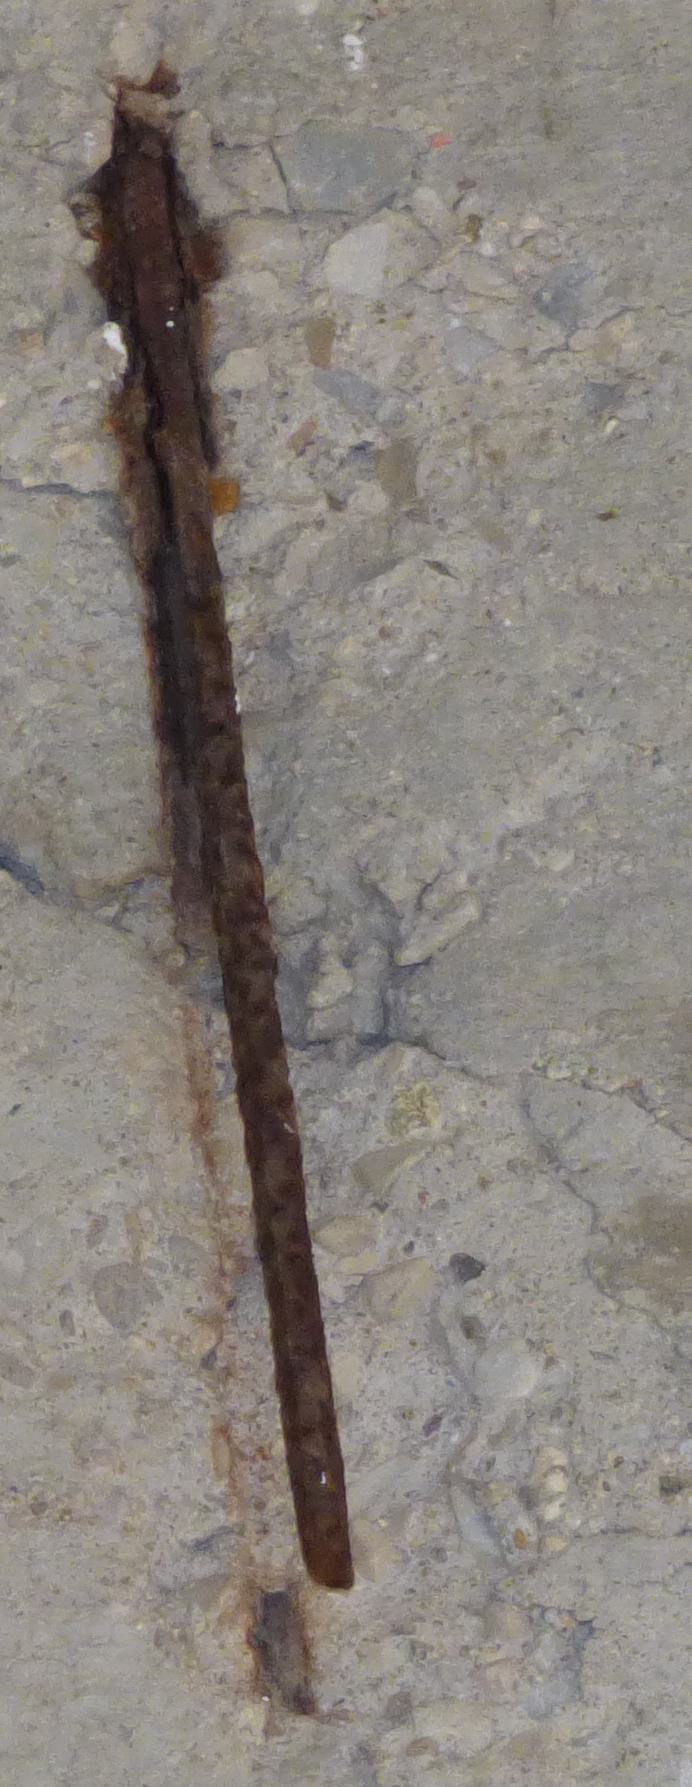Exposed reinforcement: (88, 106, 359, 1593)
